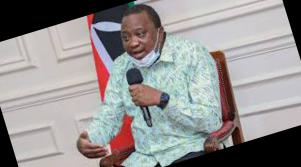mask_weared_incorrect: (121, 22, 162, 68)
